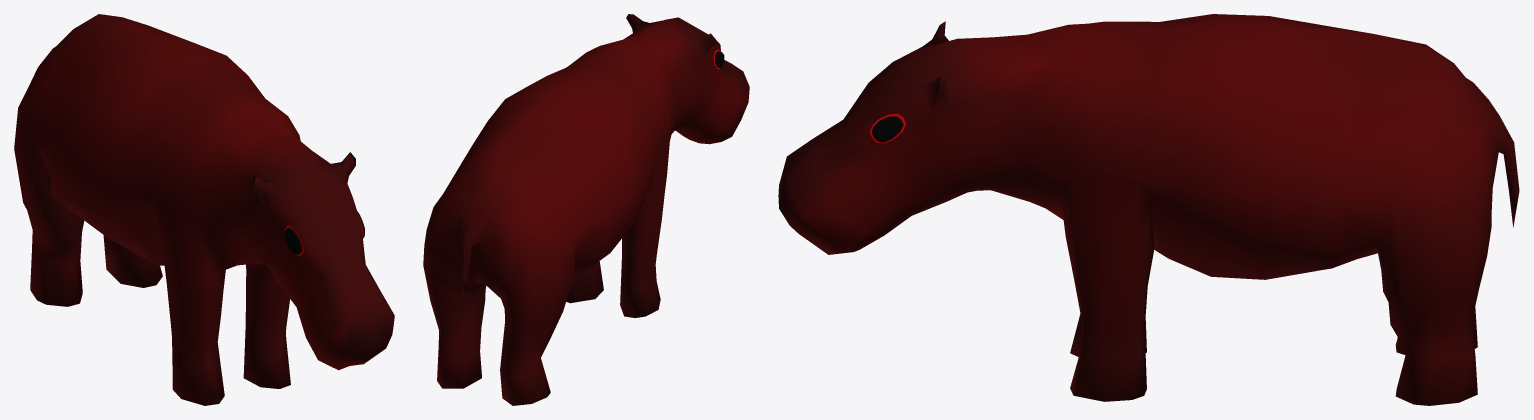
The model's file is Animals_Hippo.fbx.
3 renders of one model, left to right at view 1: azimuth 30°, elevation 25°; view 2: azimuth 150°, elevation 25°; view 3: azimuth 270°, elevation 25°, orthographic. The views are drawn at different scales.
Visible parts, largest first — view 1: base; view 2: base; view 3: base.
Boxes of the visible parts, <box> form: base: <box>14,14,394,405</box>; base: <box>423,14,749,405</box>; base: <box>778,14,1519,405</box>.
Size of the model in its own units: 97.12 by 152 by 293.
